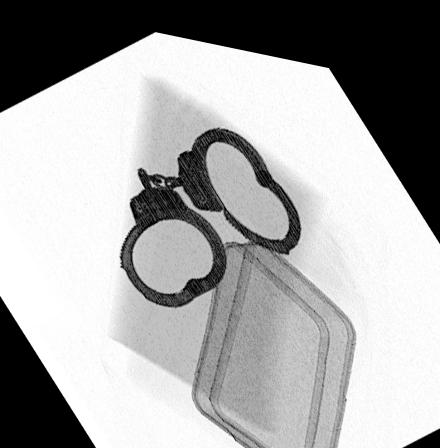HandCuffs: (116, 117, 302, 305)
